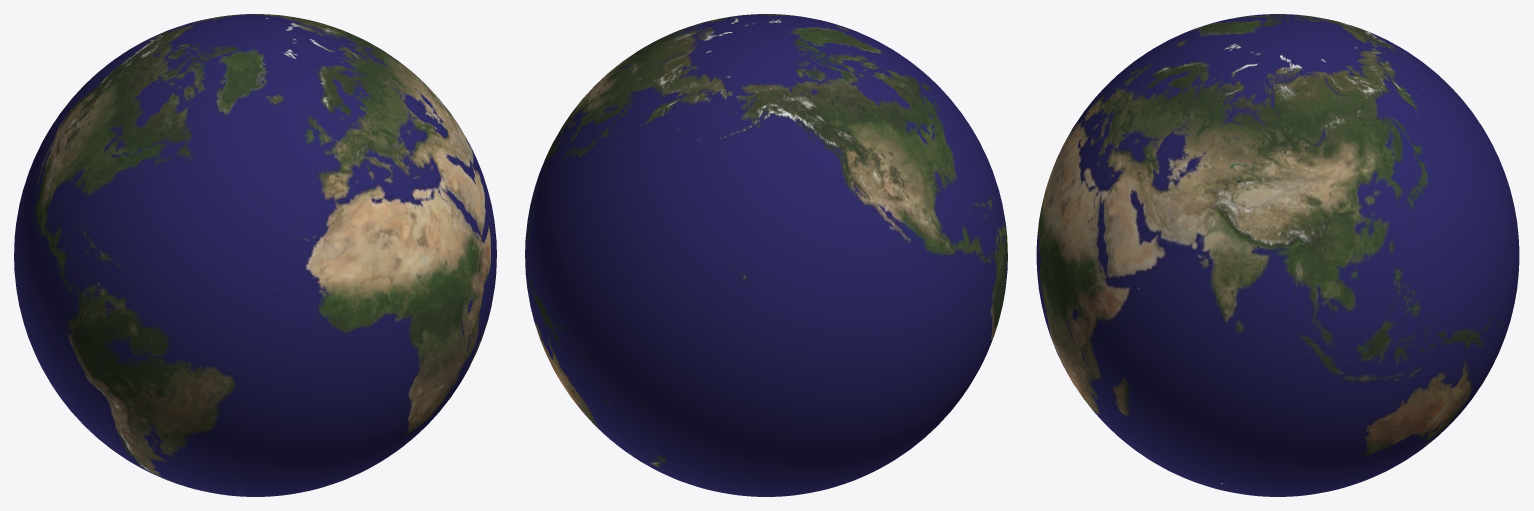
3 renders of one model, left to right at view 1: azimuth 30°, elevation 25°; view 2: azimuth 150°, elevation 25°; view 3: azimuth 270°, elevation 25°, orthographic.
Parts seen in each view (by area): view 1: Earth_No_Glaciers; view 2: Earth_No_Glaciers; view 3: Earth_No_Glaciers.
Boxes of the visible parts, x1=… form: Earth_No_Glaciers: x1=14, y1=14, x2=496, y2=496; Earth_No_Glaciers: x1=525, y1=14, x2=1007, y2=496; Earth_No_Glaciers: x1=1036, y1=14, x2=1519, y2=496.
Bounding box in the file's own units: 112 × 112 × 112.
1 material, 1 textured.
